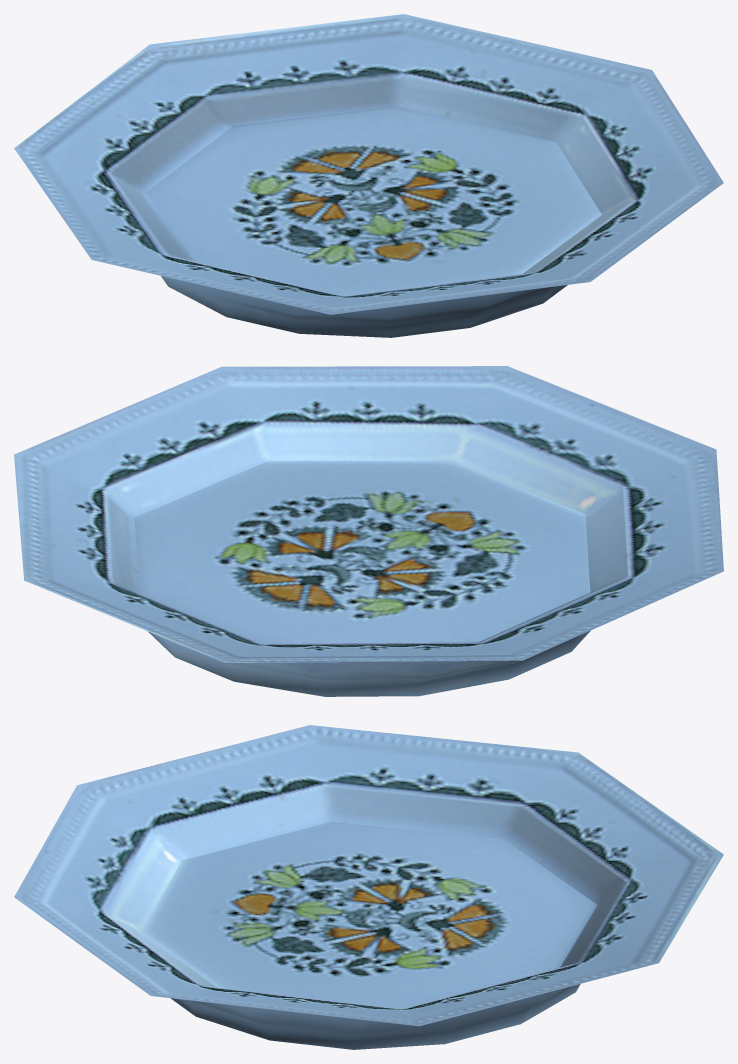
The model's file is dish-9.FBX.
The picture shows the model from 3 angles, top to bottom: view 1: azimuth 30°, elevation 25°; view 2: azimuth 150°, elevation 25°; view 3: azimuth 270°, elevation 25°; orthographic projection. The views are drawn at different scales.
Visible parts, largest first — view 1: Line01; view 2: Line01; view 3: Line01.
Boxes of the visible parts, <box> form: Line01: <box>14,14,723,337</box>; Line01: <box>14,366,723,696</box>; Line01: <box>14,725,723,1049</box>.
Bounding box in the file's own units: 12.91 × 1.57 × 12.86.
